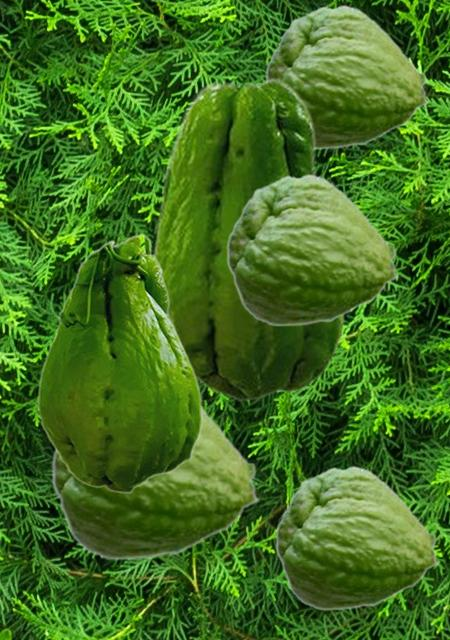sayote: (151, 77, 344, 401), (37, 233, 202, 493), (51, 407, 260, 560), (226, 173, 399, 326), (265, 4, 429, 149), (275, 465, 439, 610)
